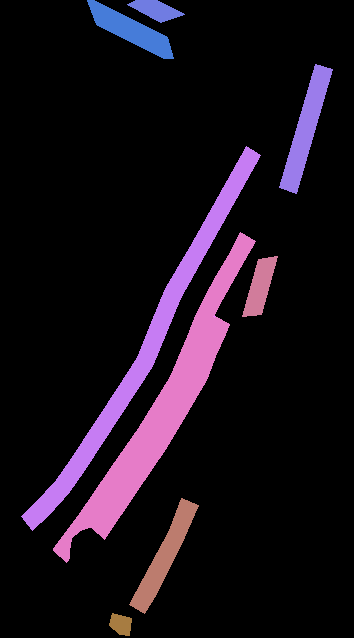parkingspot: (21, 146, 260, 530), (53, 232, 255, 562), (91, 316, 229, 539), (129, 498, 198, 613), (279, 64, 332, 193), (87, 0, 173, 58), (242, 256, 277, 316), (127, 0, 184, 22), (109, 613, 131, 635)
